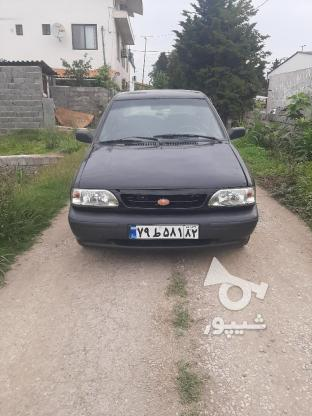car: (128, 224, 197, 238)
